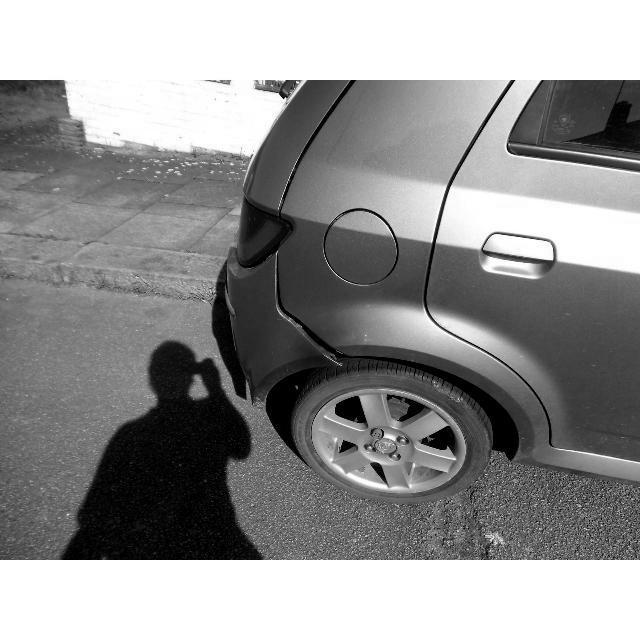rear-bumper-dent: (205, 249, 319, 386)
